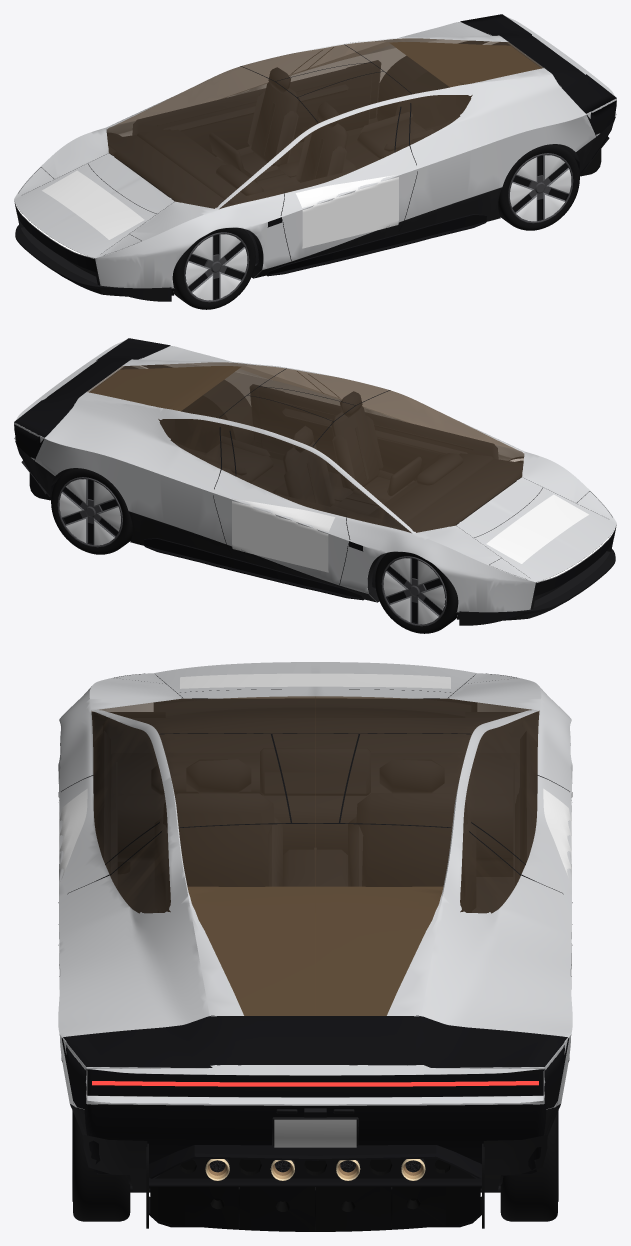
The model's file is car_lod1.glb.
3 views of the same model, one above another, from view 1: azimuth 30°, elevation 25°; view 2: azimuth 150°, elevation 25°; view 3: azimuth 270°, elevation 25° (orthographic). The views are drawn at different scales.
Parts seen in each view (by area): view 1: Body, Decals, Wheel_RL_mesh, Wheel_FL_mesh, Thrusters, WingWell; view 2: Body, Decals, Wheel_RR_mesh, Wheel_FR_mesh, Thrusters, WingWell; view 3: Body, Thrusters, WingWell, Decals, Wheel_RL_mesh, Wheel_RR_mesh.
Part boxes in pixels (bbox=[...]): Body: bbox=[14, 16, 616, 301]; Decals: bbox=[42, 83, 398, 248]; Wheel_RL_mesh: bbox=[498, 144, 579, 230]; Wheel_FL_mesh: bbox=[172, 227, 255, 309]; Thrusters: bbox=[390, 42, 609, 176]; WingWell: bbox=[460, 14, 616, 134]; Body: bbox=[14, 340, 616, 625]; Decals: bbox=[232, 407, 588, 572]; Wheel_RR_mesh: bbox=[51, 468, 132, 554]; Wheel_FR_mesh: bbox=[375, 551, 458, 633]; Thrusters: bbox=[21, 366, 240, 500]; WingWell: bbox=[14, 338, 170, 458]; Body: bbox=[58, 662, 572, 1227]; Thrusters: bbox=[83, 886, 547, 1231]; WingWell: bbox=[61, 1016, 569, 1108]; Decals: bbox=[59, 673, 571, 1147]; Wheel_RL_mesh: bbox=[72, 1110, 130, 1221]; Wheel_RR_mesh: bbox=[500, 1110, 558, 1221].
Size of the model in its own units: 5.02 by 1.35 by 2.13.
